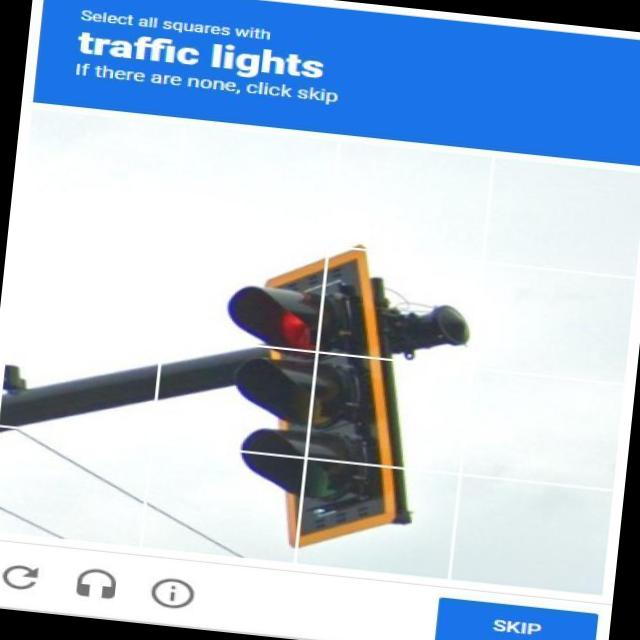red-lights: (258, 288, 348, 357)
